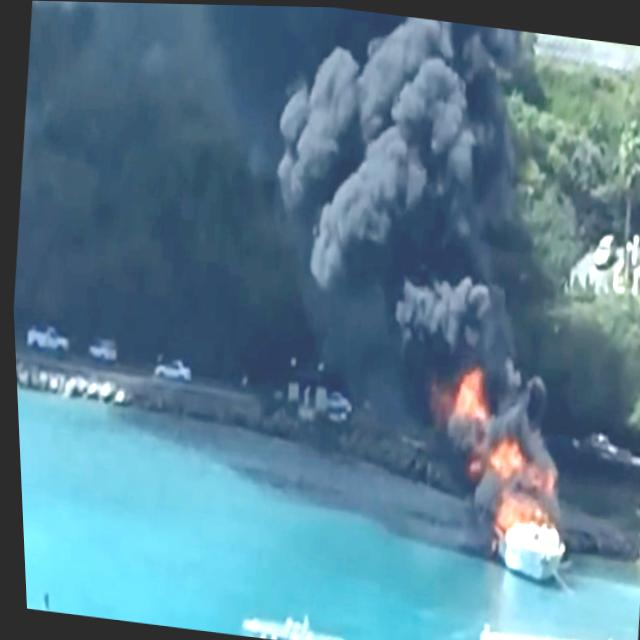smoke: (264, 5, 528, 376)
